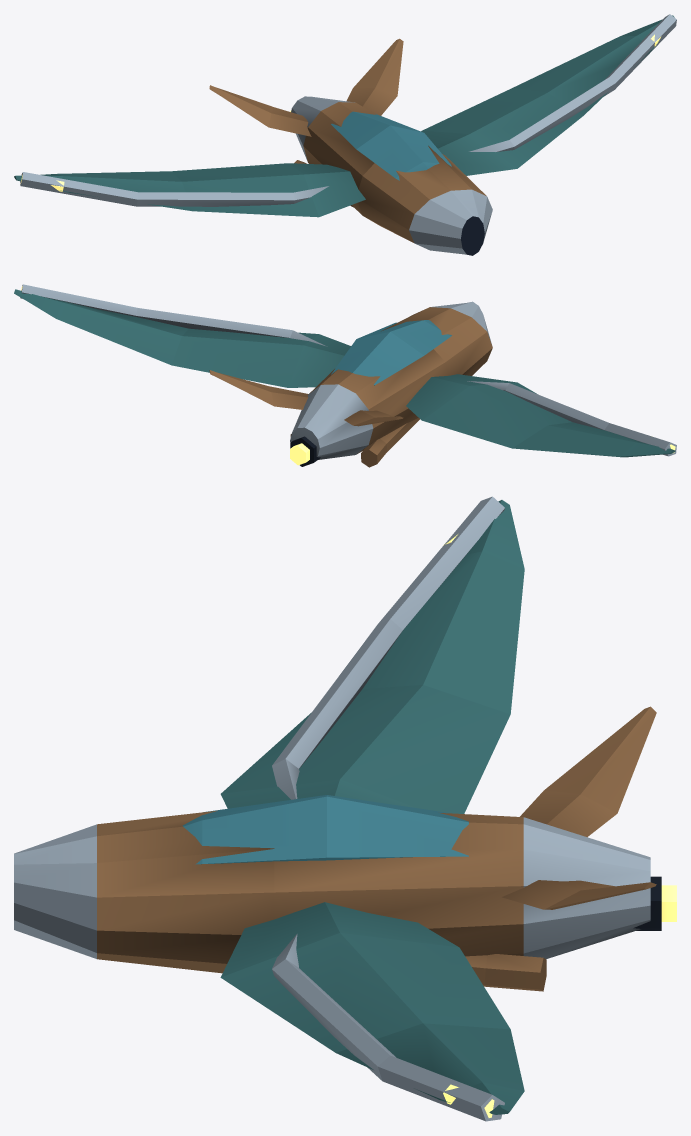
The model's file is ambient-survey-glider.glb.
The picture shows the model from 3 angles, top to bottom: view 1: azimuth 30°, elevation 25°; view 2: azimuth 150°, elevation 25°; view 3: azimuth 270°, elevation 25°; orthographic projection. The views are drawn at different scales.
Parts seen in each view (by area): view 1: ambient-survey-glider; view 2: ambient-survey-glider; view 3: ambient-survey-glider.
Part boxes in pixels (bbox=[...]): ambient-survey-glider: bbox=[14, 14, 676, 255]; ambient-survey-glider: bbox=[14, 284, 676, 467]; ambient-survey-glider: bbox=[14, 496, 676, 1121].
Bounding box in the file's own units: 6.6 × 0.871 × 3.03.
